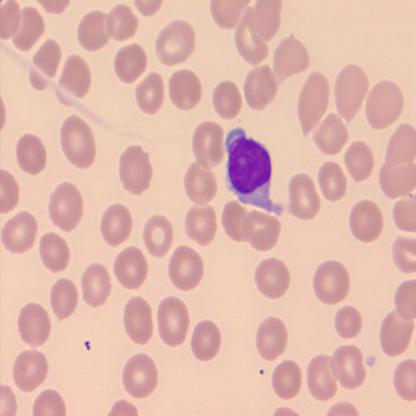Lymphocyte: (224, 128, 285, 216)
